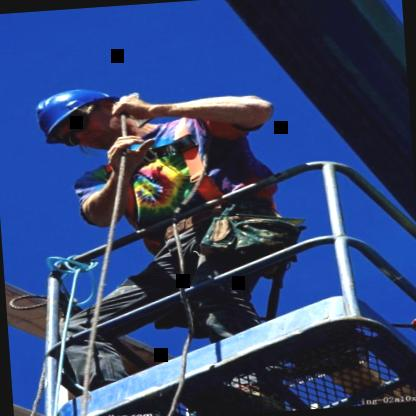helmet: (23, 78, 145, 158)
